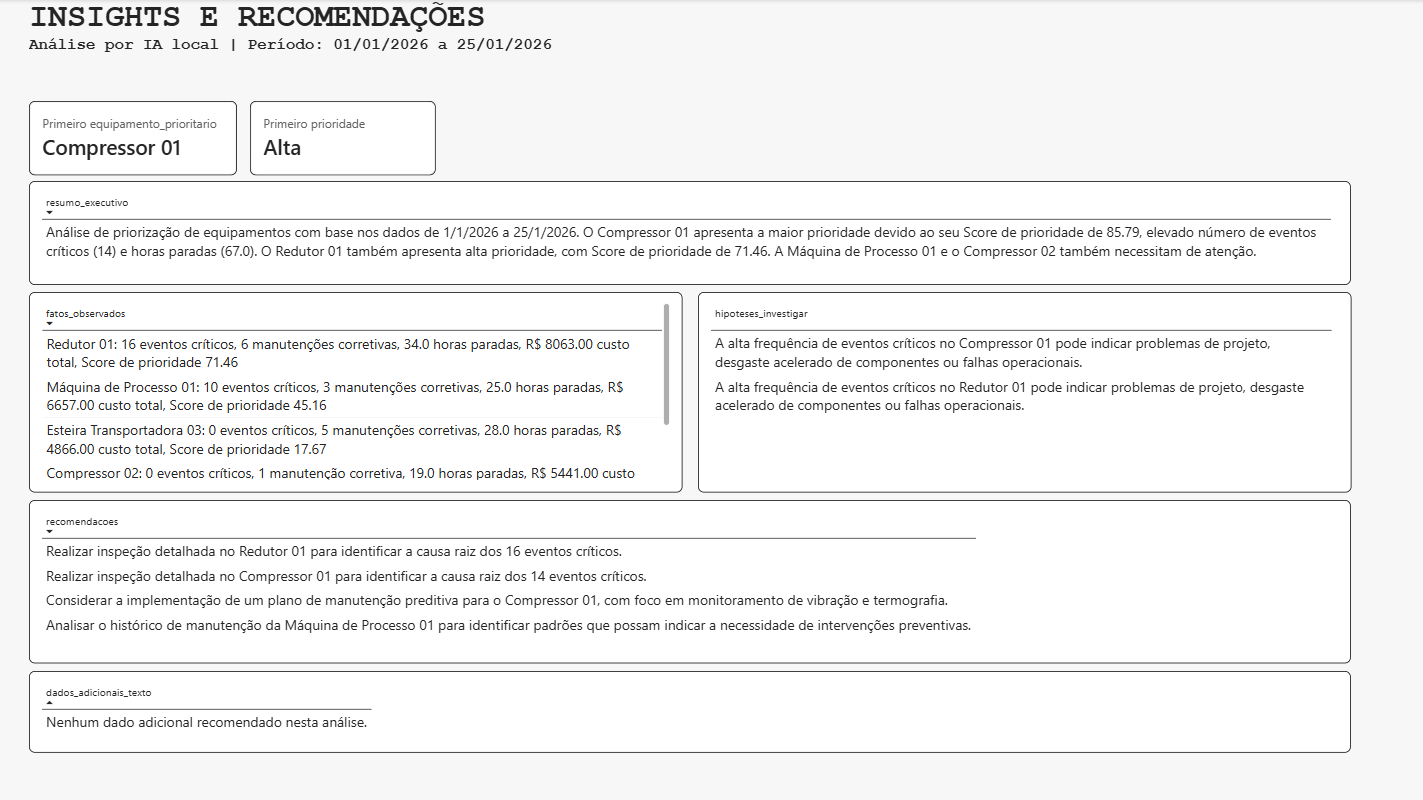

The page's visual inventory and layout, read from the dashboard file:
{"tool":"powerbi","page":{"name":"Insights e Recomendações","canvas":[1920,1080],"ordinal":2},"visuals":[{"type":"cardVisual","fields":{"Data":["Min(ia_resumo.equipamento_prioritario)"]},"box":[40.1,137.6,280,100],"z":0},{"type":"cardVisual","fields":{"Data":["Min(ia_resumo.prioridade)"]},"box":[338,137.6,250,100],"z":1},{"type":"tableEx","fields":{"Values":["ia_resumo.resumo_executivo"]},"box":[40.1,245,1780,140],"z":3},{"type":"tableEx","fields":{"Values":["ia_fatos.fatos_observados"]},"box":[40.1,395,880,270],"z":4},{"type":"tableEx","fields":{"Values":["ia_hipoteses.hipoteses_investigar"]},"box":[940.8,395,880,270],"z":5},{"type":"tableEx","fields":{"Values":["ia_recomendacoes.recomendacoes"]},"box":[40.1,675,1780,220],"z":6},{"type":"tableEx","fields":{"Values":["ia_dados_adicionais.dados_adicionais_texto"]},"box":[40.1,905,1780,110],"z":7},{"type":"textbox","box":[40,0,1780,150],"z":8}]}

Visuals, with their boxes in screenshot pixels (x1, y1, x2, y2), scaled from the page's 1920x1080 canvas onto the 1423x800 screenshot:
cardVisual - Min(ia_resumo.equipamento_prioritario): 30/102/237/176
cardVisual - Min(ia_resumo.prioridade): 251/102/436/176
tableEx - ia_resumo.resumo_executivo: 30/181/1349/285
tableEx - ia_fatos.fatos_observados: 30/293/682/493
tableEx - ia_hipoteses.hipoteses_investigar: 697/293/1349/493
tableEx - ia_recomendacoes.recomendacoes: 30/500/1349/663
tableEx - ia_dados_adicionais.dados_adicionais_texto: 30/670/1349/752
textbox: 30/0/1349/111
